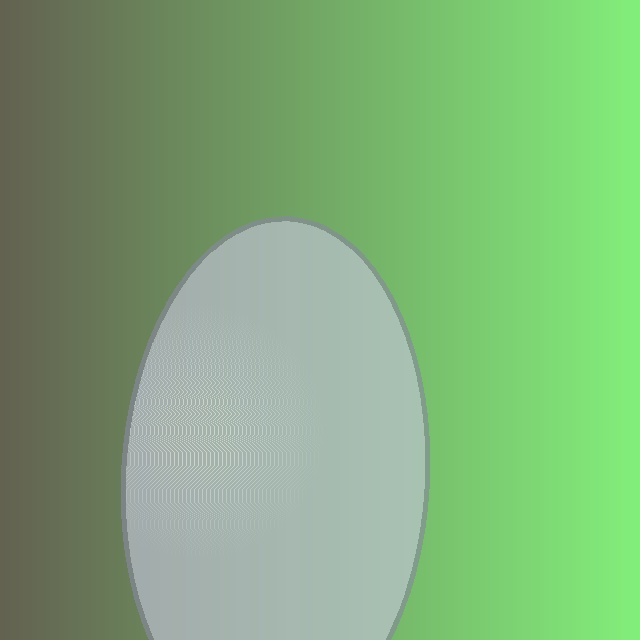lens: (123, 218, 427, 640)
